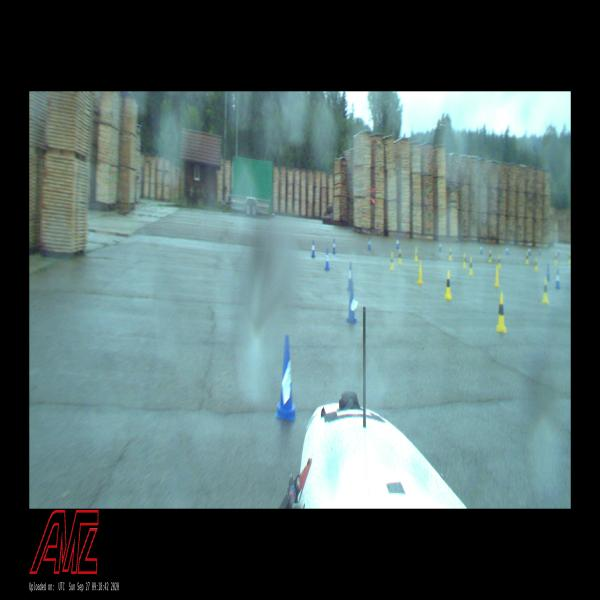blue_cone: (275, 335, 297, 420), (346, 288, 356, 322), (347, 262, 353, 290), (324, 249, 330, 269), (556, 271, 560, 288), (311, 241, 315, 257), (368, 237, 371, 249), (396, 238, 399, 248), (333, 239, 335, 253)
yellow_cone: (496, 293, 506, 332), (444, 270, 452, 298), (542, 278, 550, 303), (416, 261, 424, 283), (494, 266, 499, 286), (390, 252, 394, 269), (469, 258, 473, 274), (414, 247, 418, 261), (462, 254, 466, 267), (448, 248, 452, 260), (398, 249, 401, 264), (488, 251, 491, 262), (498, 254, 500, 268), (535, 257, 537, 270), (526, 252, 528, 264)
